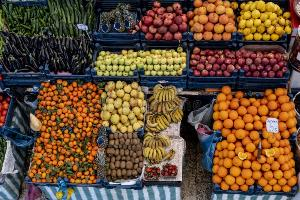apple: (237, 47, 287, 79), (140, 46, 188, 78), (189, 46, 237, 76), (96, 45, 136, 77)
banana: (146, 82, 188, 162)
bell_pepper: (0, 0, 49, 34)
eggplant: (0, 34, 92, 74)
kiwi: (104, 131, 144, 185)
orange: (210, 85, 300, 196), (30, 81, 104, 185), (188, 1, 234, 42)
pear: (104, 78, 146, 132)
pineapple: (94, 2, 138, 38)
pomegranate: (140, 1, 188, 42)
zucchini: (50, 0, 94, 36)
